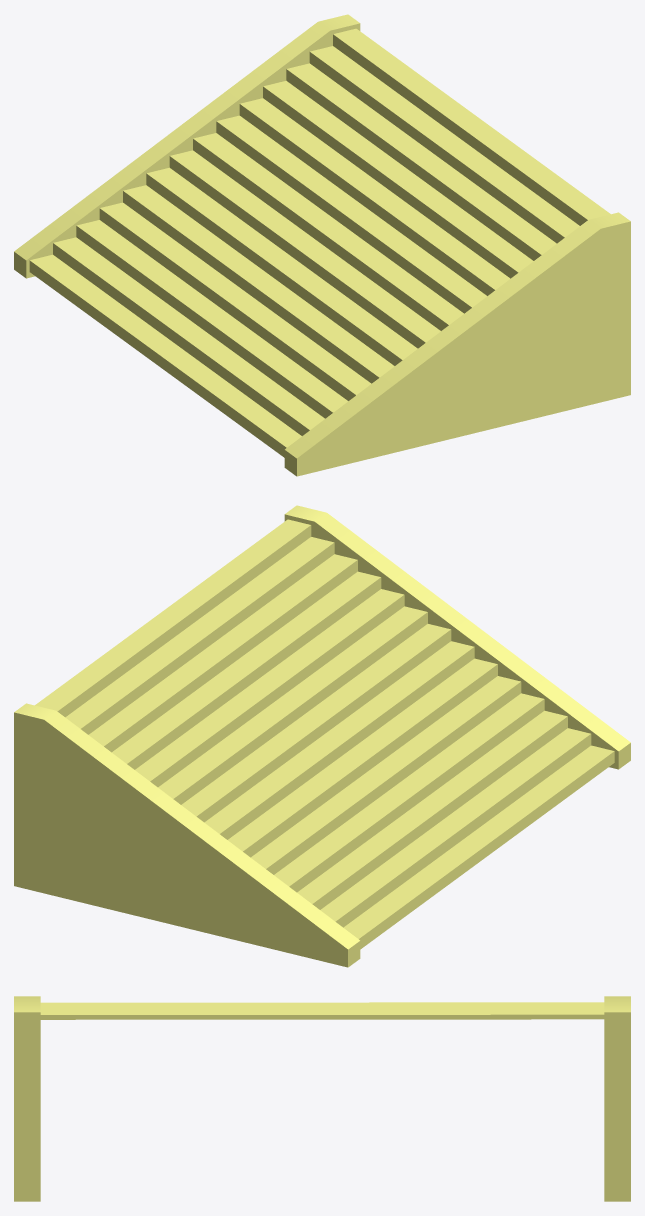
3 renders of one model, top to bottom at view 1: azimuth 30°, elevation 25°; view 2: azimuth 150°, elevation 25°; view 3: azimuth 270°, elevation 25°, orthographic. The views are drawn at different scales.
Visible parts, largest first — view 1: 2_low002; view 2: 2_low002; view 3: 2_low002.
Boxes of the visible parts, <box> form: 2_low002: <box>14,14,630,476</box>; 2_low002: <box>14,505,630,967</box>; 2_low002: <box>14,996,630,1201</box>.
Size of the model in its own units: 662 by 329 by 971.
